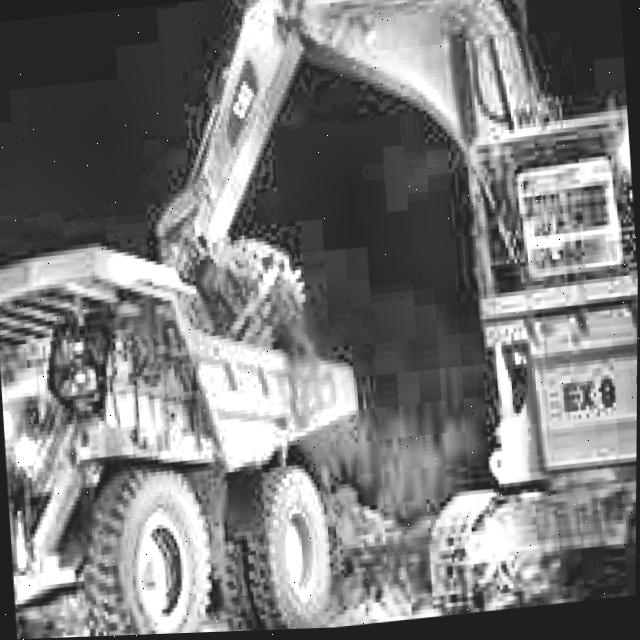dump_truck: (0, 224, 345, 640)
excavator: (149, 0, 640, 636)
